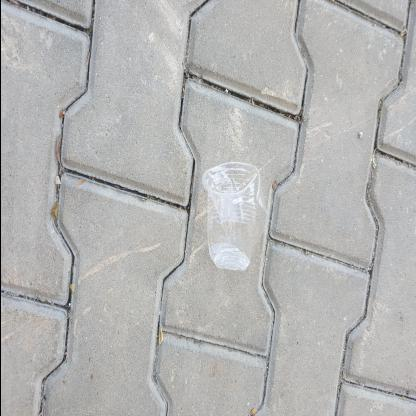plastik: (146, 201, 256, 261)
